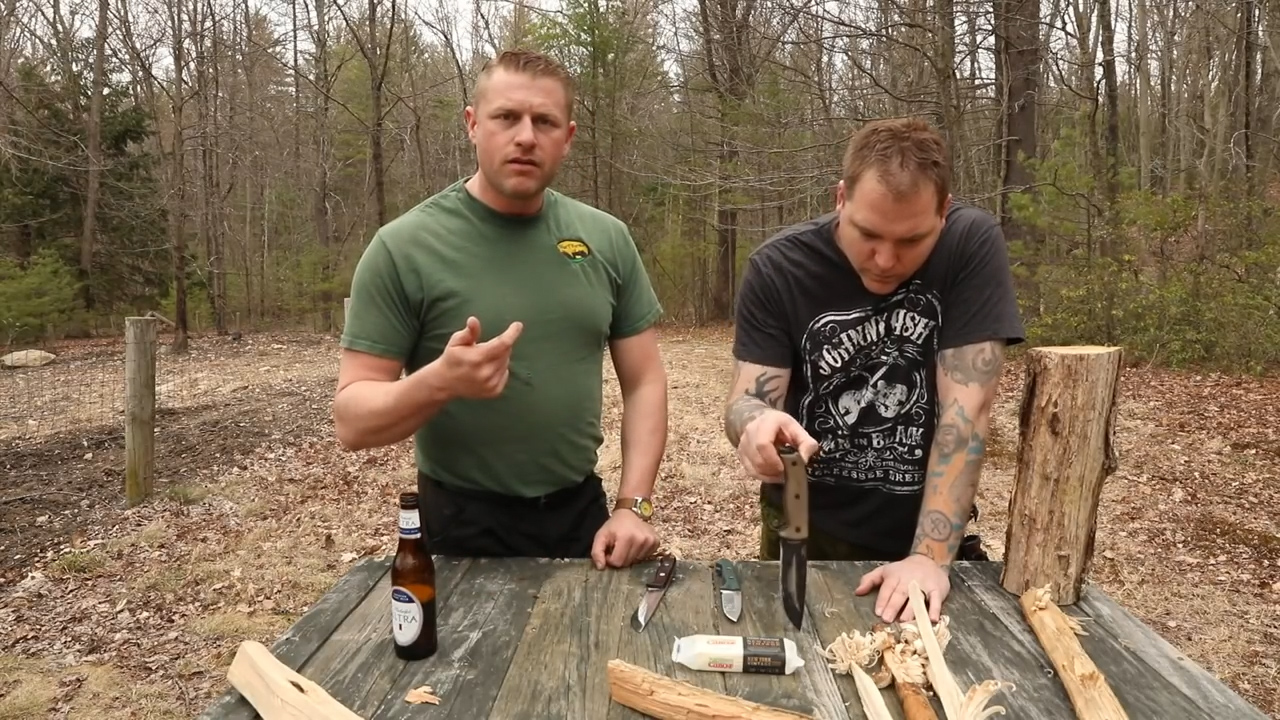knife: (740, 425, 832, 631)
